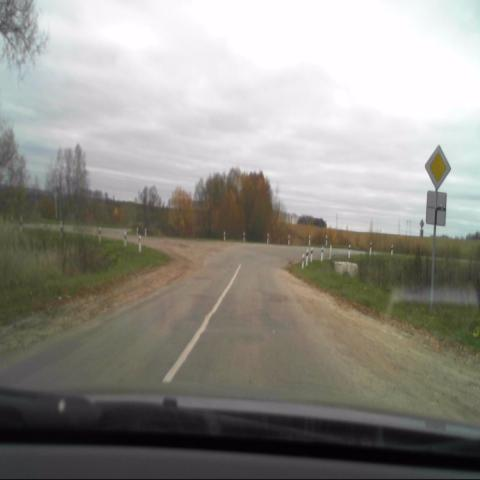2_1: (425, 144, 451, 190)
8_13: (426, 192, 447, 225)
